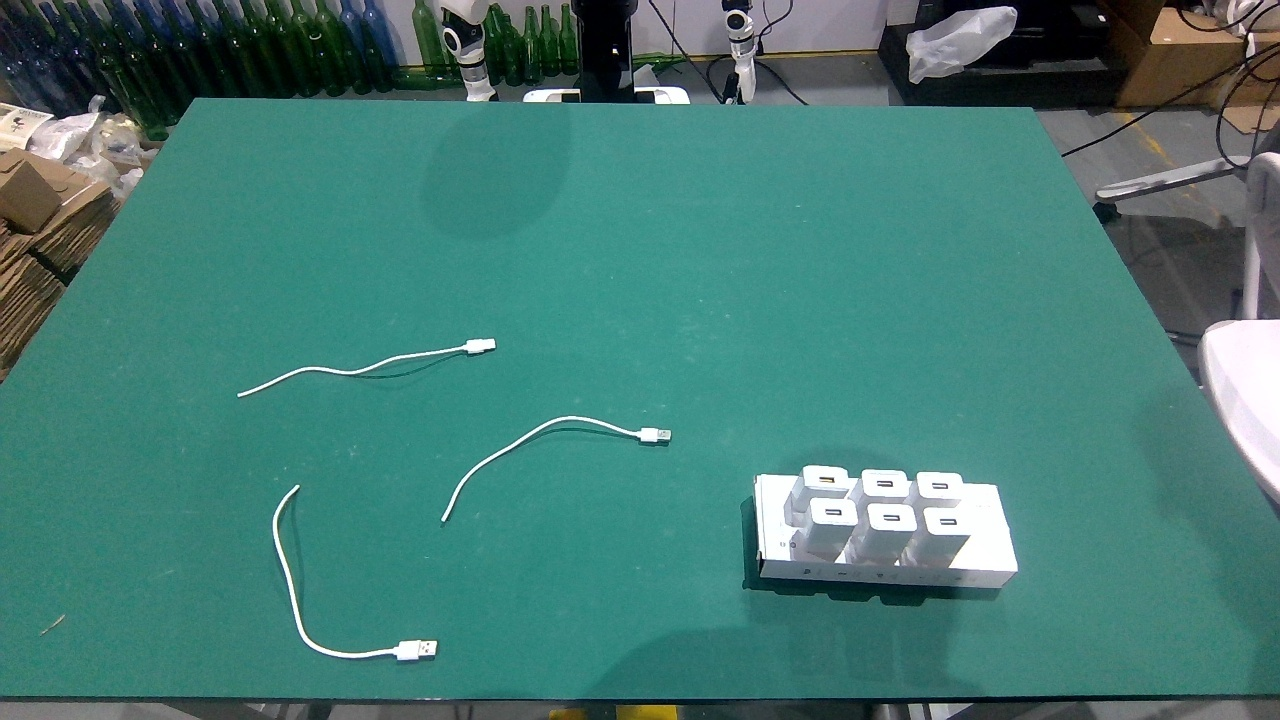usb_a_plug: (378, 639, 438, 662), (455, 338, 496, 355), (630, 427, 672, 443)
